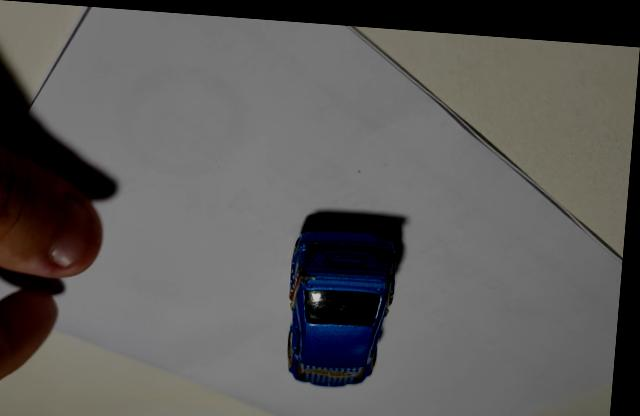04_MERZEDES: (292, 222, 404, 382)
